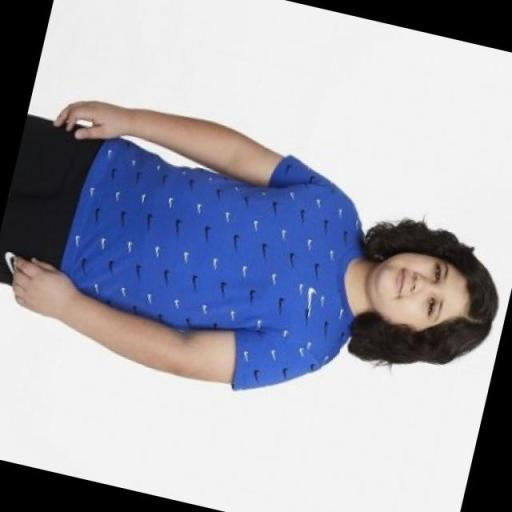Nike: (297, 282, 320, 323)
